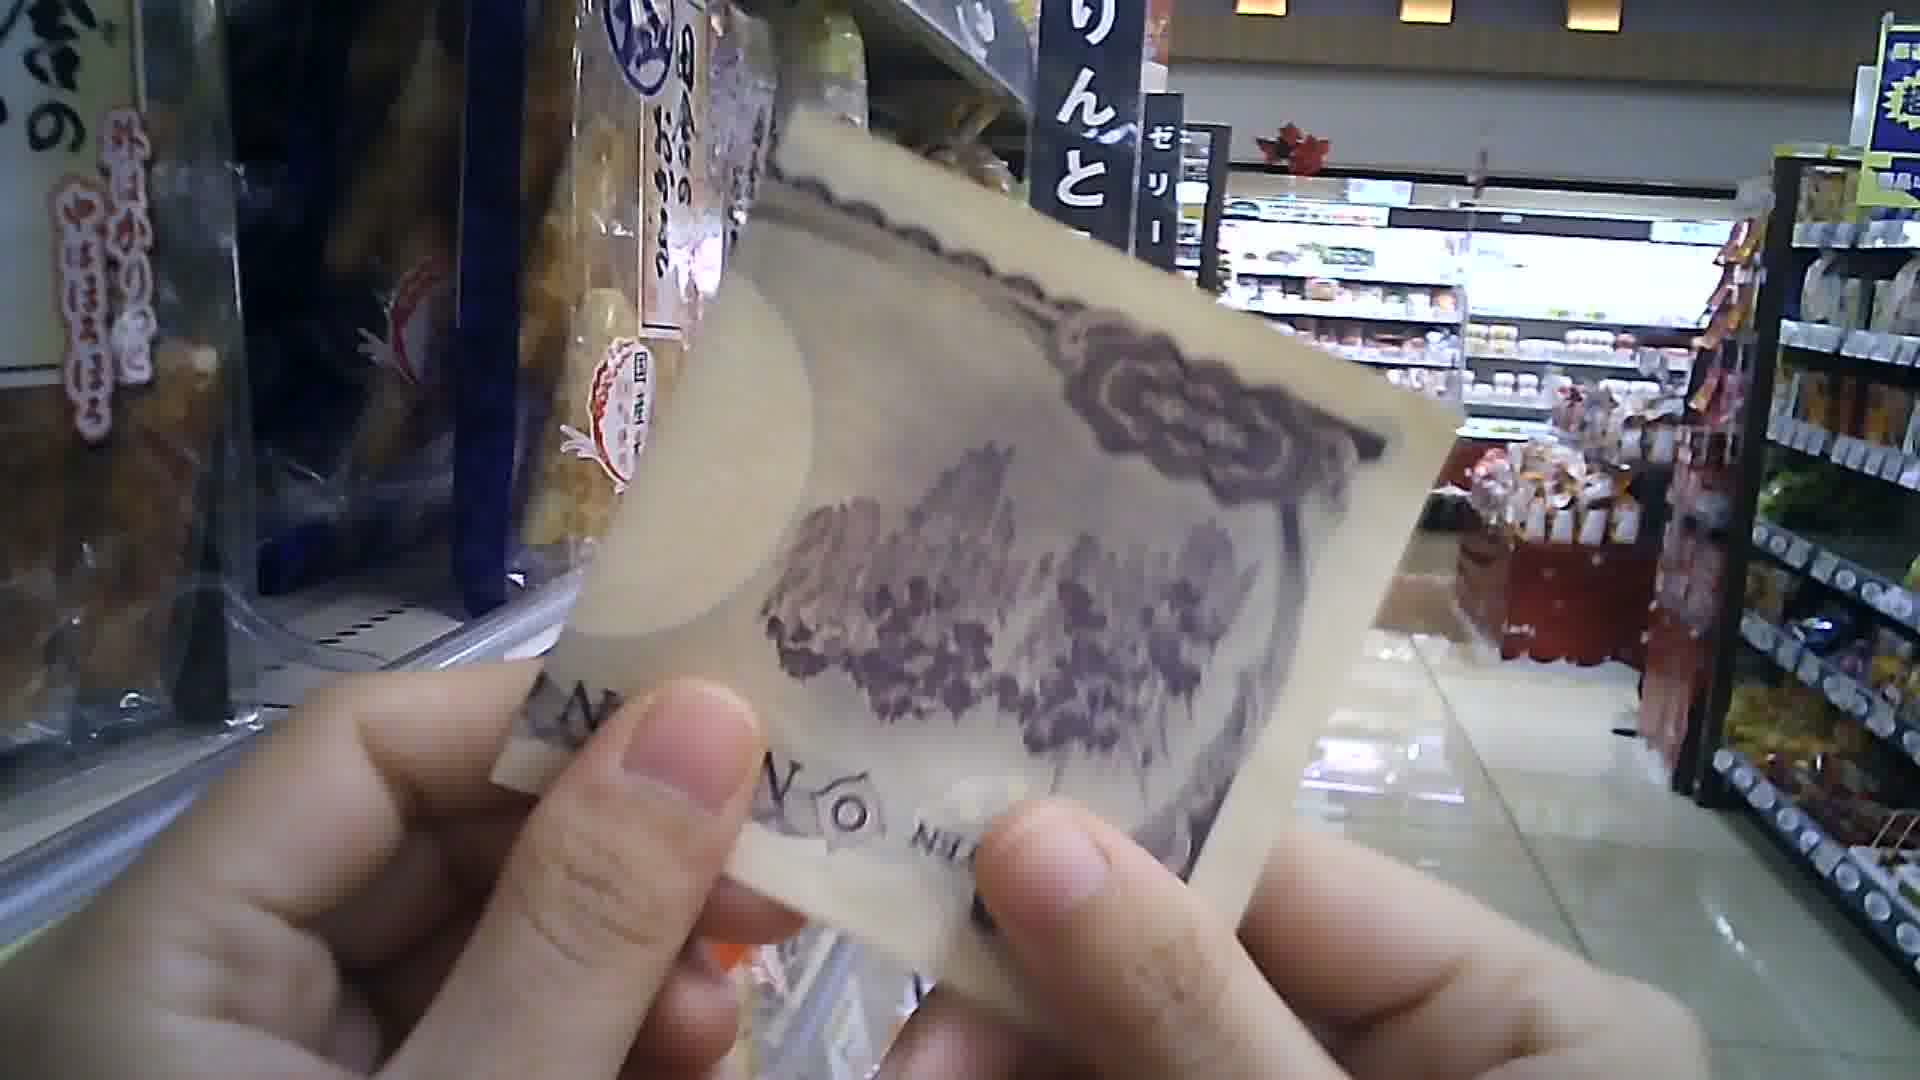5,000 Yen: (496, 94, 1443, 1079)
